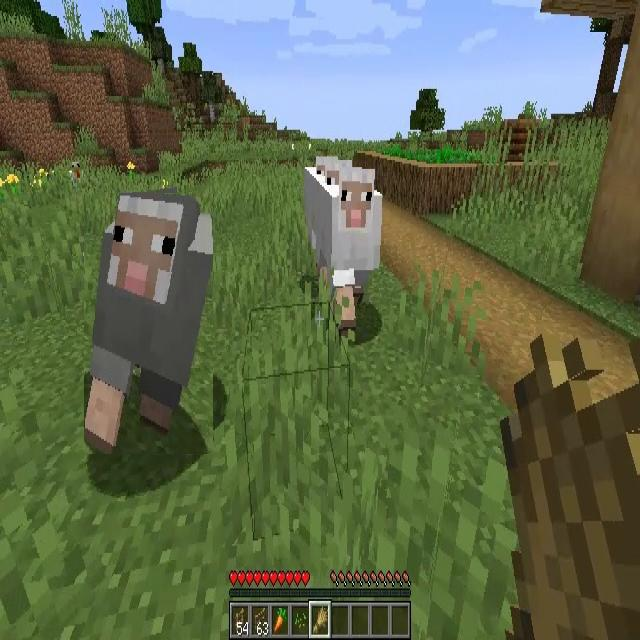sheep: (84, 193, 213, 454), (315, 169, 380, 332), (305, 157, 353, 271)
